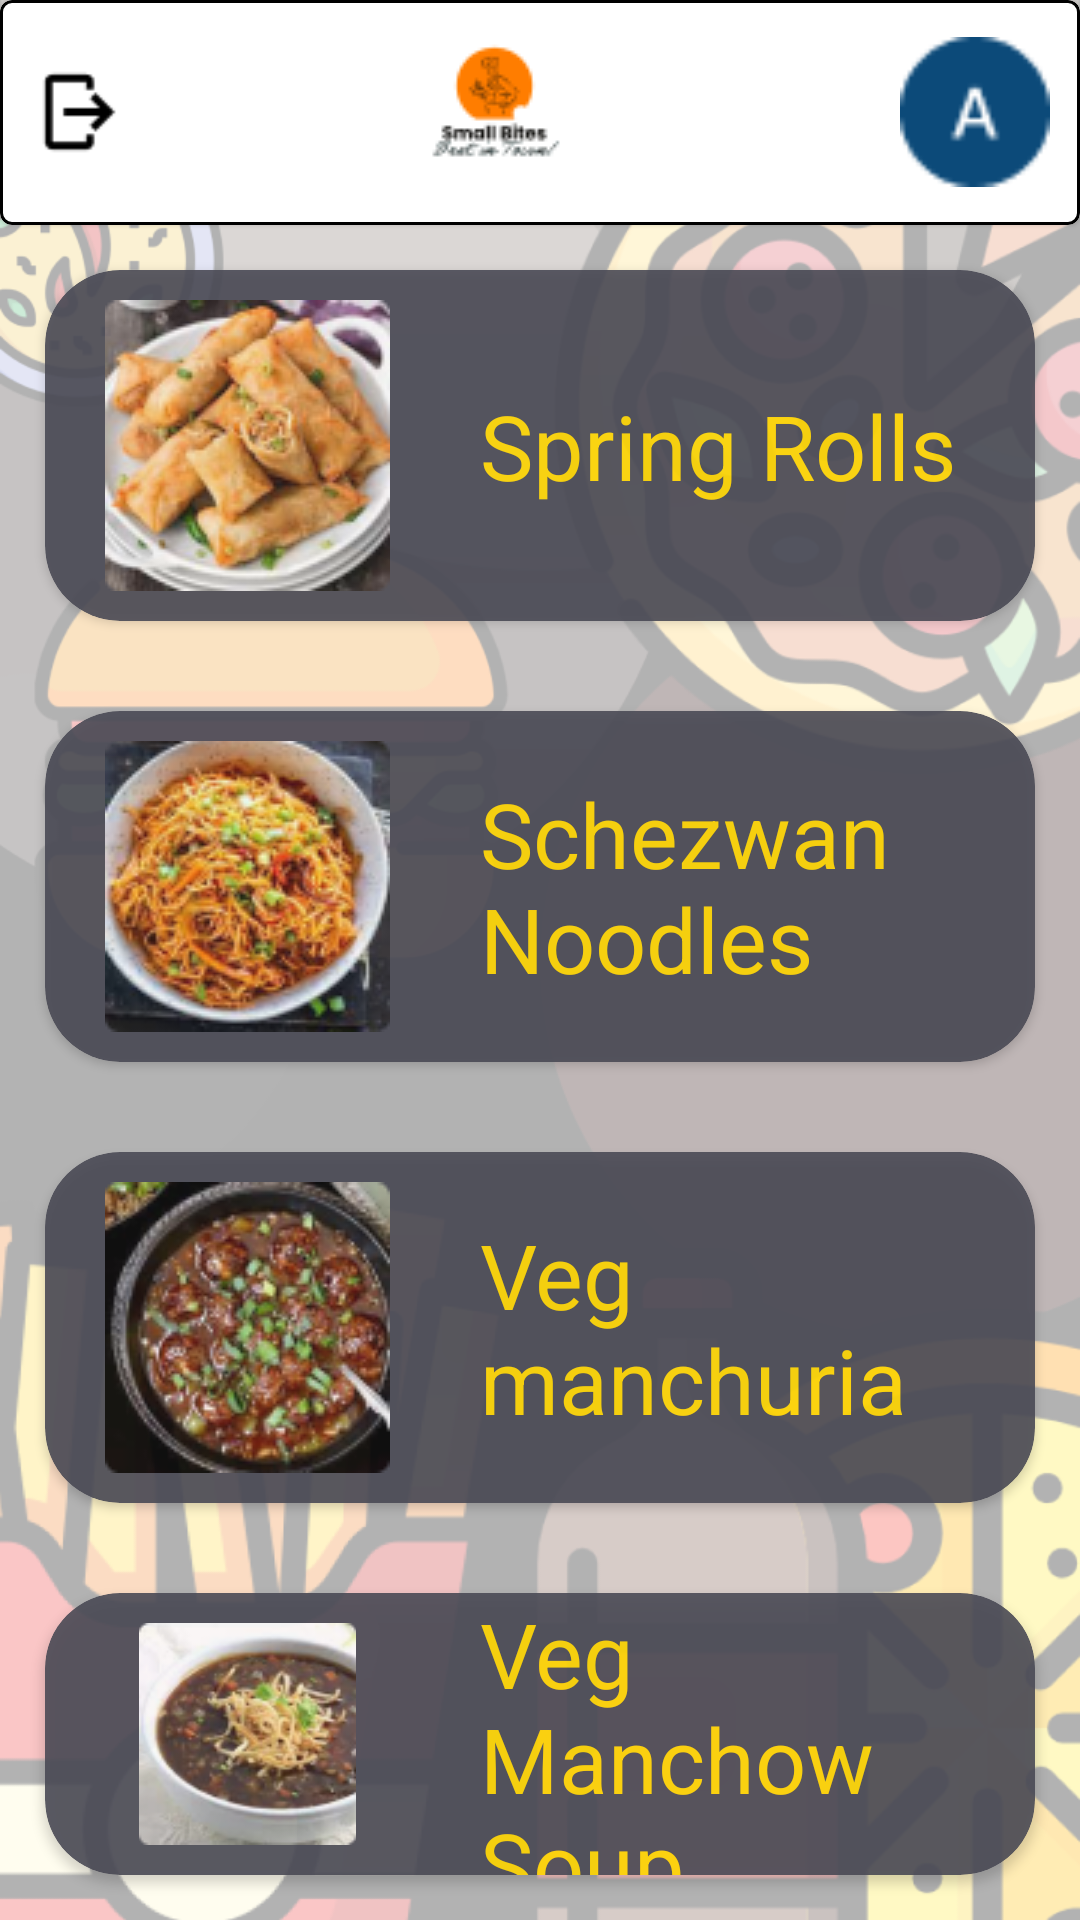

Screen size 1080 x 1920. Icon name, then its center in pixels as (x=x, y=y):
user: (x=975, y=112)
